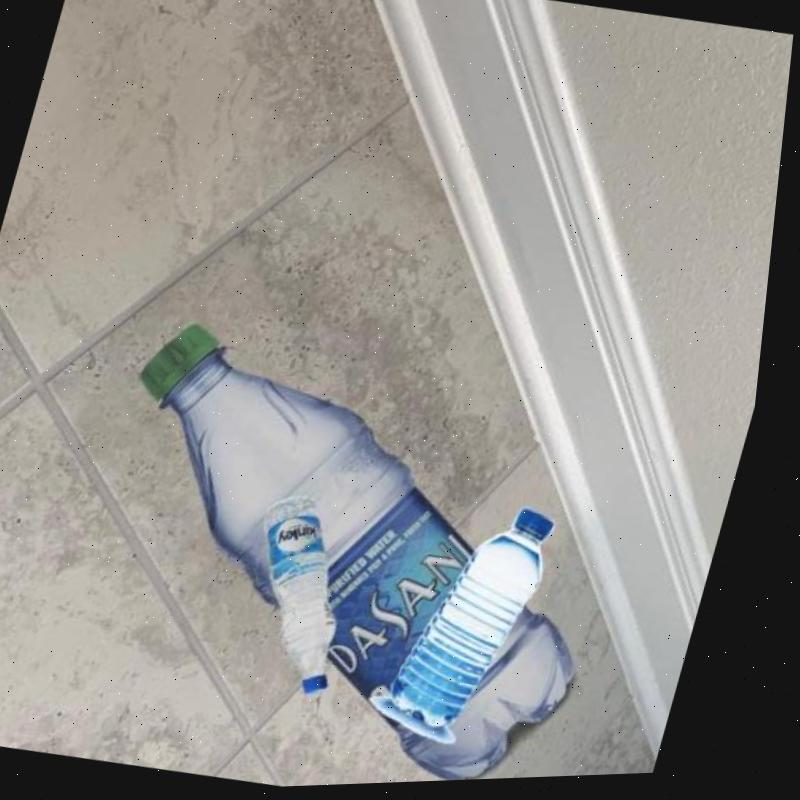botella: (48, 300, 671, 797), (396, 496, 579, 743), (235, 493, 393, 701)
